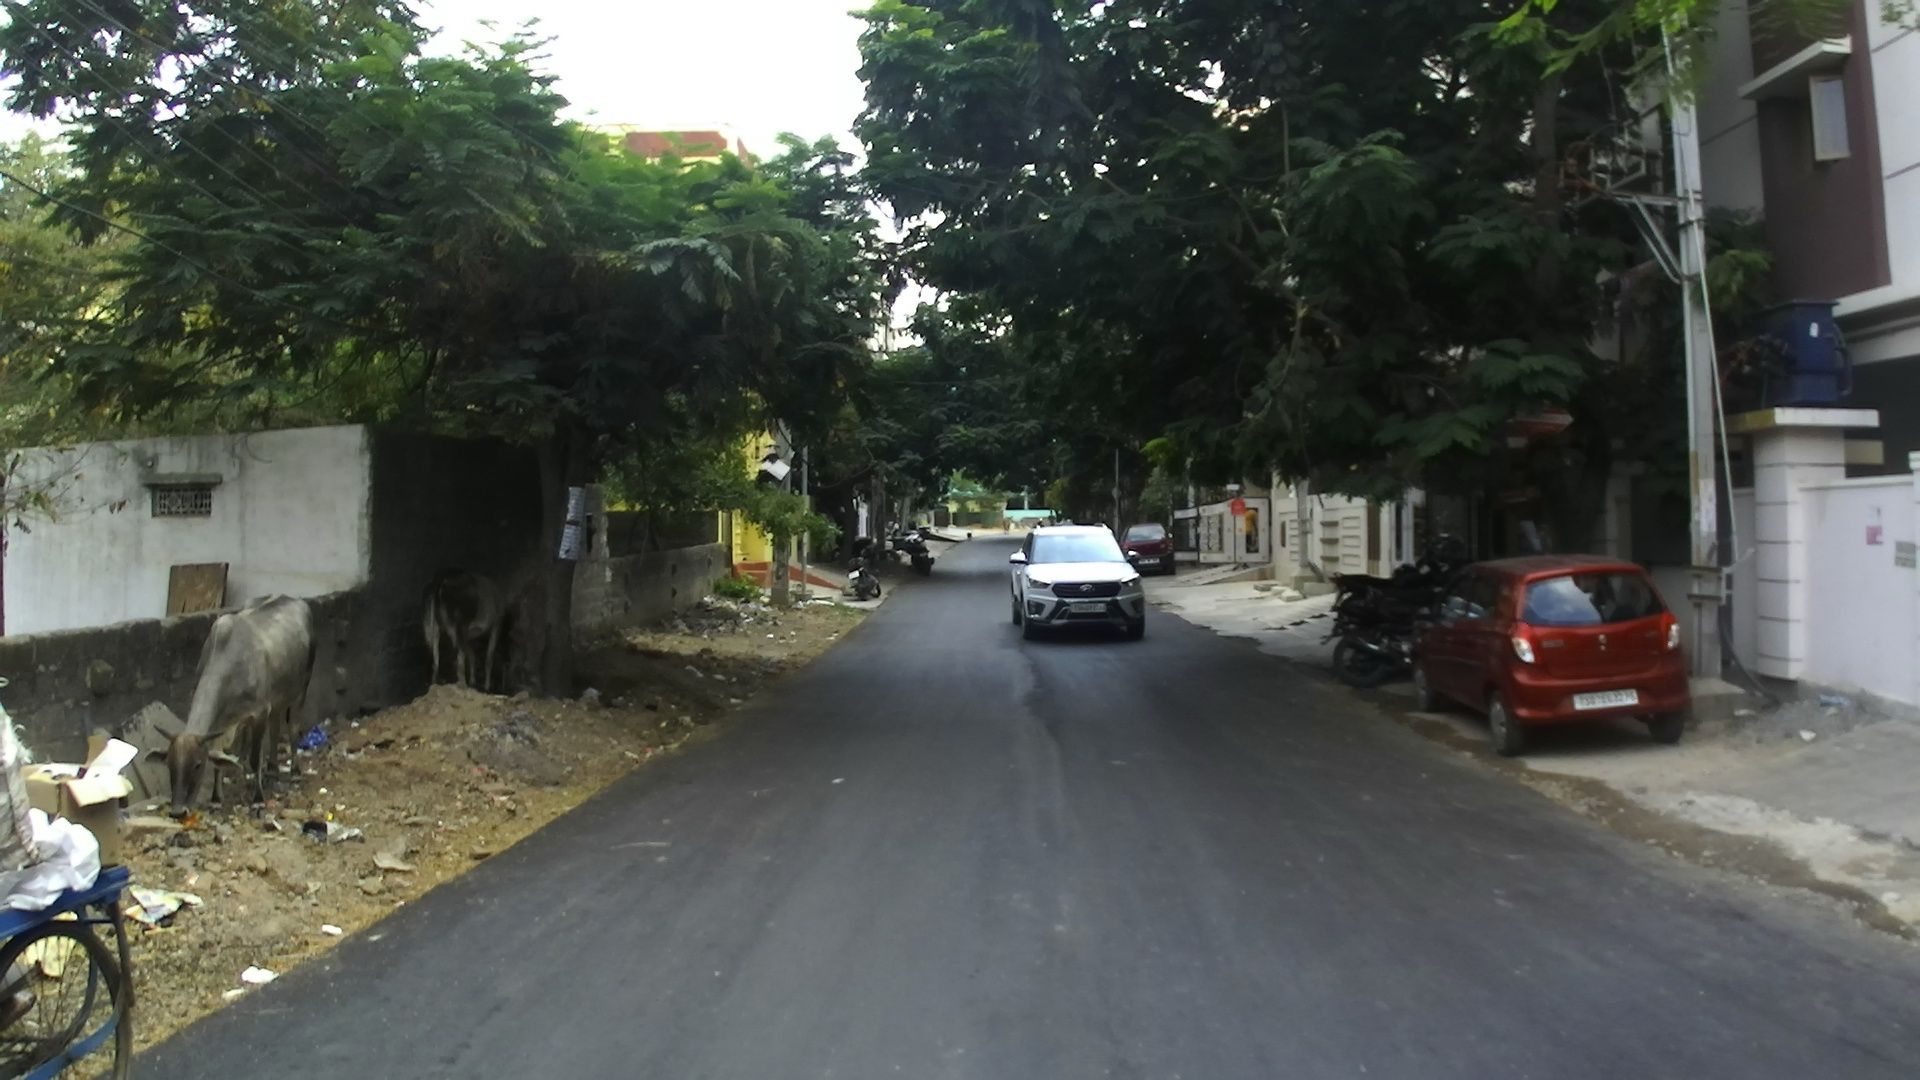vehicle: (0, 708, 196, 1076), (1411, 550, 1693, 750), (1007, 524, 1149, 641), (1323, 560, 1451, 686), (1120, 525, 1172, 574)
